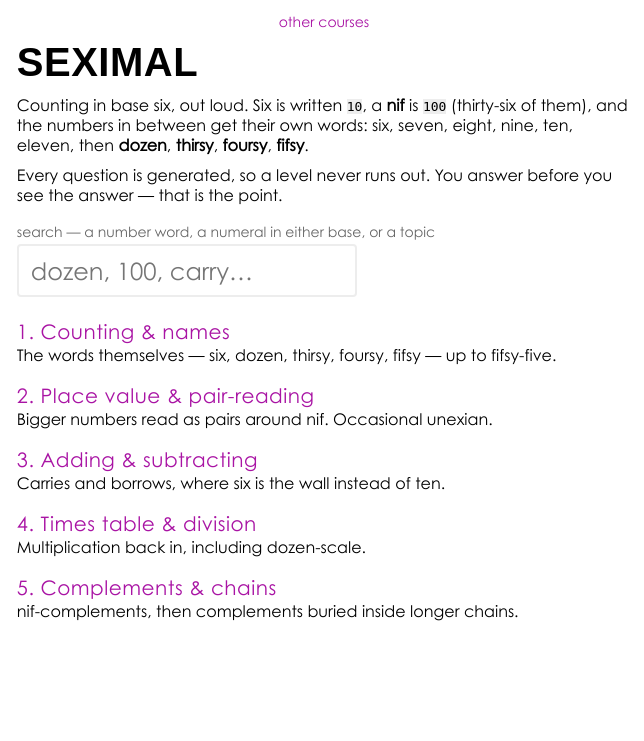
Test case: seximal search › the seximal page finds a named number and links the level that teaches it
In the field labelled "search — a number word, a numeral in either base, or a topic": [187, 270] box [17, 244, 357, 297], type "dozen"
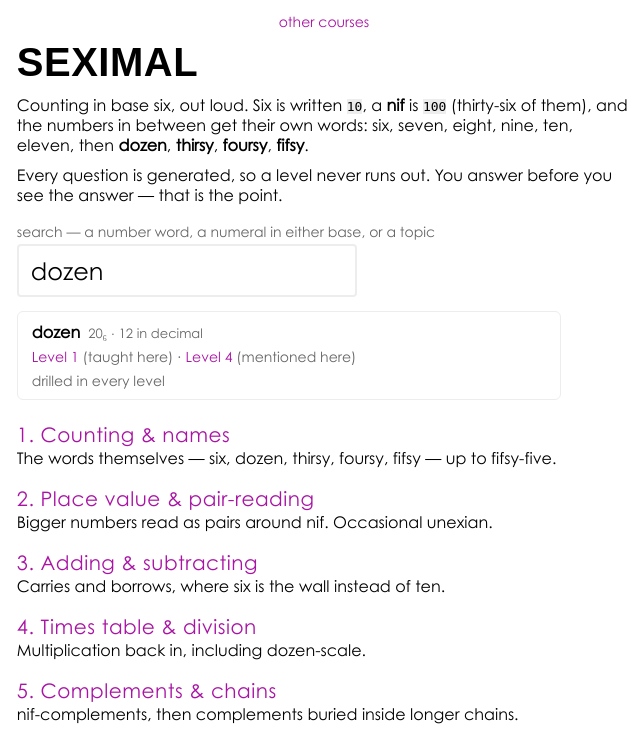
Now the text "dozen" next to "20₆ · 12 in decimal" is shown, box [32, 322, 80, 342]
Now the text "20₆ · 12 in decimal" is shown, box [88, 325, 203, 341]
Now the element with class "tp__search-levels" reads "Level 1 (taught here) · Level 4 (mentioned here)", box [32, 348, 356, 365]
